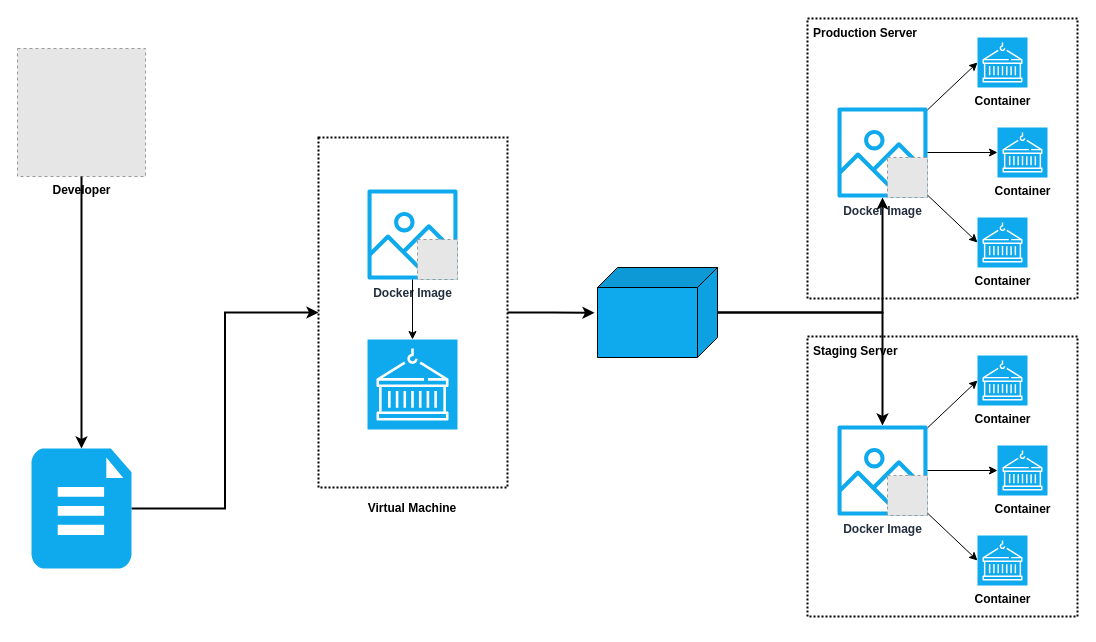
Image size: 1096x642. Some labels were removed from this diagram. Grey dashed boxes stand in for pictures. Here are the shapes that lost their labels. From the top down, the centre of each, then its label:
At [657,312]: "Docker Registry".
At [412,384]: "Docker Container".
At [81,508]: "Dockerfile".
